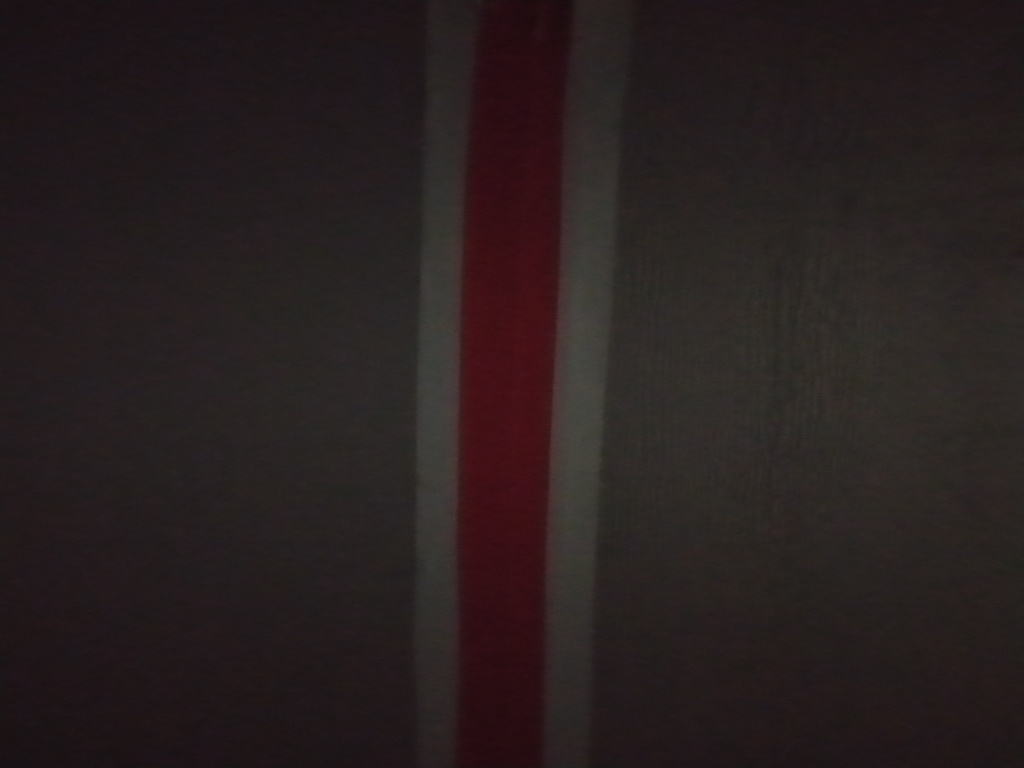reta: (394, 10, 603, 768)
